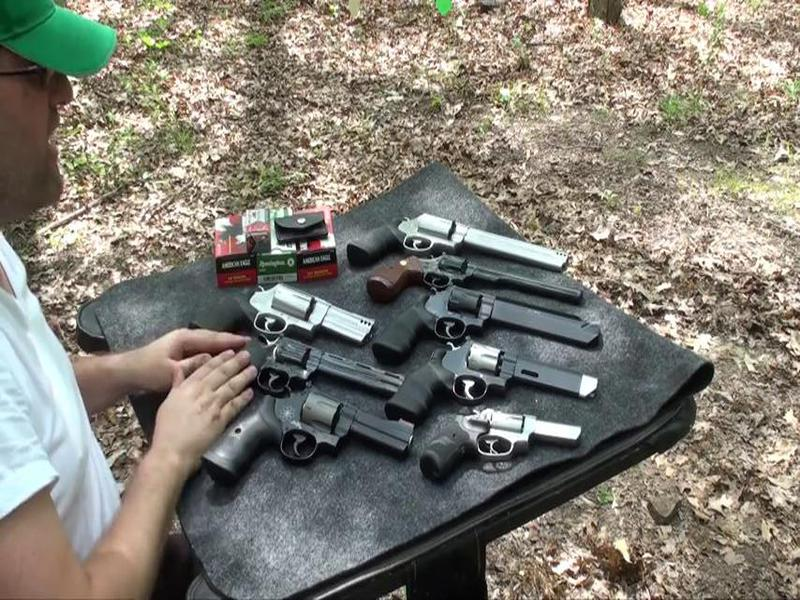Revolver: (231, 275, 390, 359)
